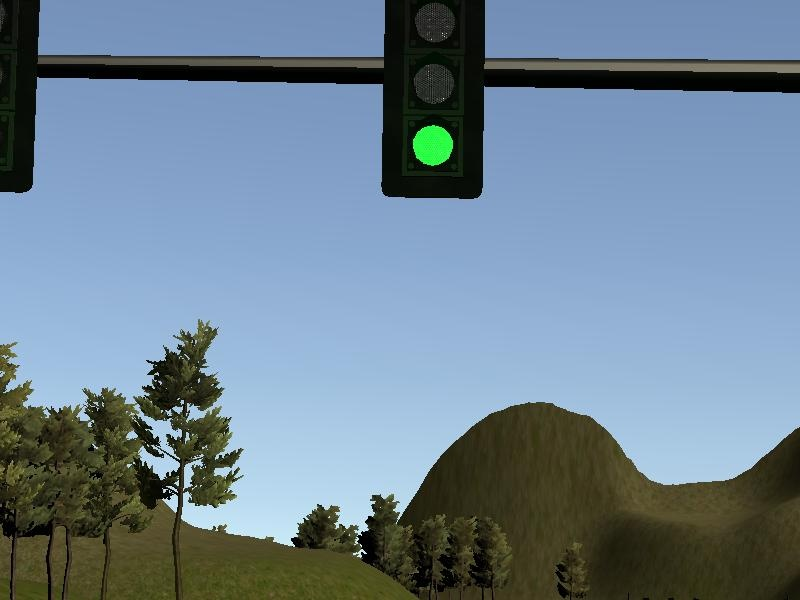traffic_light_green: (1, 2, 800, 202)
